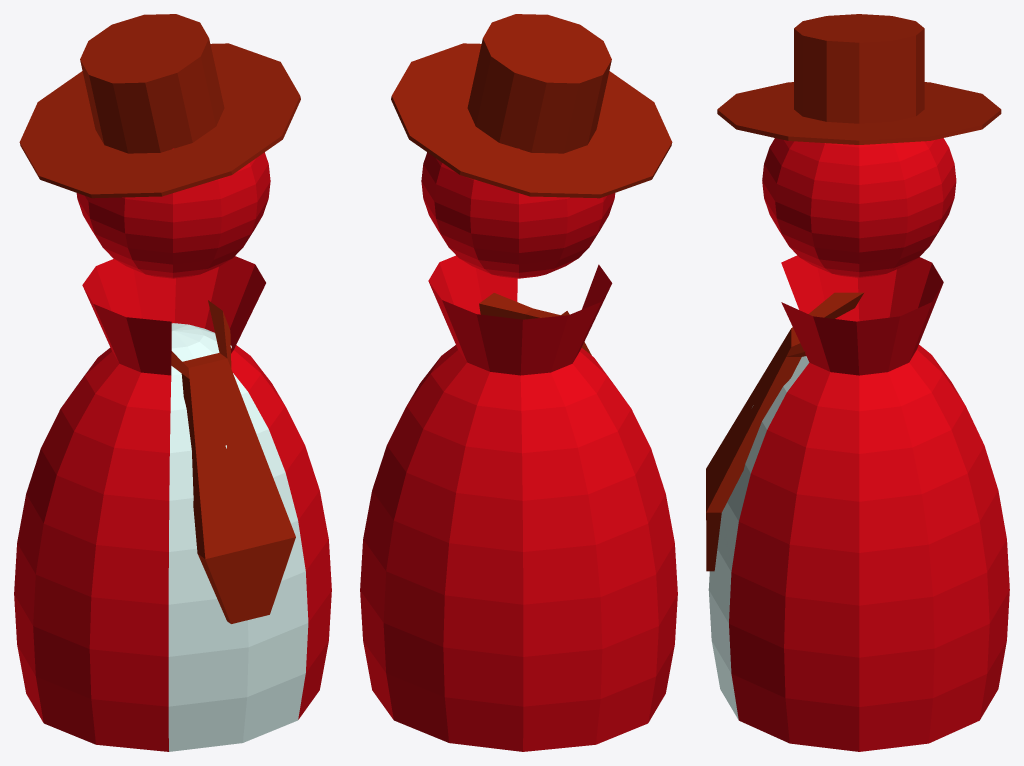
The model's file is Rojo.glb.
The picture shows the model from 3 angles, left to right: view 1: azimuth 30°, elevation 25°; view 2: azimuth 150°, elevation 25°; view 3: azimuth 270°, elevation 25°; orthographic projection.
Parts seen in each view (by area): view 1: Esfera.009, Cilindro.017, Cubo.055, Esfera.010; view 2: Esfera.009, Cilindro.017, Esfera.010, Cubo.055; view 3: Esfera.009, Cilindro.017, Esfera.010, Cubo.055.
Part boxes in pixels (x1,y1,x2,y2): Esfera.009: (14,256,331,751); Cilindro.017: (19,14,300,198); Cubo.055: (171,300,295,623); Esfera.010: (76,148,270,278); Esfera.009: (360,255,677,751); Cilindro.017: (391,14,672,198); Esfera.010: (421,148,615,278); Cubo.055: (479,293,591,355); Esfera.009: (708,255,1009,751); Cilindro.017: (717,14,1001,144); Esfera.010: (762,138,956,277); Cubo.055: (706,292,863,571).
Bounding box in the file's own units: 14.44 × 32.7 × 13.65.
